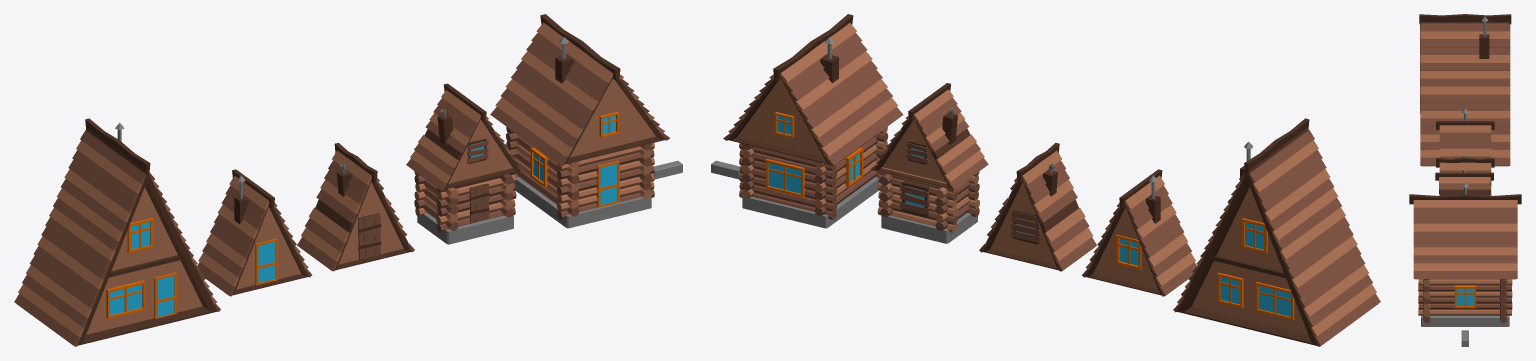
Rendered from Forest_House.fbx.
3 views of the same model, side by side, from view 1: azimuth 30°, elevation 25°; view 2: azimuth 150°, elevation 25°; view 3: azimuth 270°, elevation 25° (orthographic). The views are drawn at different scales.
Parts seen in each view (by area): view 1: Forest_House_Type 1_01, Forest_House_Type 2_01, Forest_House_Type 2_02, Forest_House_Type 1_03, Forest_House_Type 1_02; view 2: Forest_House_Type 1_01, Forest_House_Type 2_01, Forest_House_Type 2_02, Forest_House_Type 1_03, Forest_House_Type 1_02; view 3: Forest_House_Type 2_01, Forest_House_Type 1_01, Forest_House_Type 1_02, Forest_House_Type 2_02, Forest_House_Type 1_03, Step.
Boxes of the visible parts, bbox=[...] form: Forest_House_Type 1_01: bbox=[14, 118, 220, 346]; Forest_House_Type 2_01: bbox=[490, 14, 669, 228]; Forest_House_Type 2_02: bbox=[406, 83, 523, 244]; Forest_House_Type 1_03: bbox=[297, 143, 414, 271]; Forest_House_Type 1_02: bbox=[197, 169, 312, 296]; Forest_House_Type 1_01: bbox=[1173, 118, 1380, 346]; Forest_House_Type 2_01: bbox=[723, 14, 903, 228]; Forest_House_Type 2_02: bbox=[870, 83, 988, 243]; Forest_House_Type 1_03: bbox=[979, 142, 1096, 271]; Forest_House_Type 1_02: bbox=[1082, 169, 1196, 296]; Forest_House_Type 2_01: bbox=[1409, 182, 1521, 326]; Forest_House_Type 1_01: bbox=[1419, 14, 1511, 166]; Forest_House_Type 1_02: bbox=[1436, 108, 1494, 158]; Forest_House_Type 2_02: bbox=[1435, 170, 1493, 195]; Forest_House_Type 1_03: bbox=[1436, 156, 1494, 195]; Step: bbox=[1461, 330, 1468, 346].
Bounding box in the file's own units: 2901 × 757 × 590.
